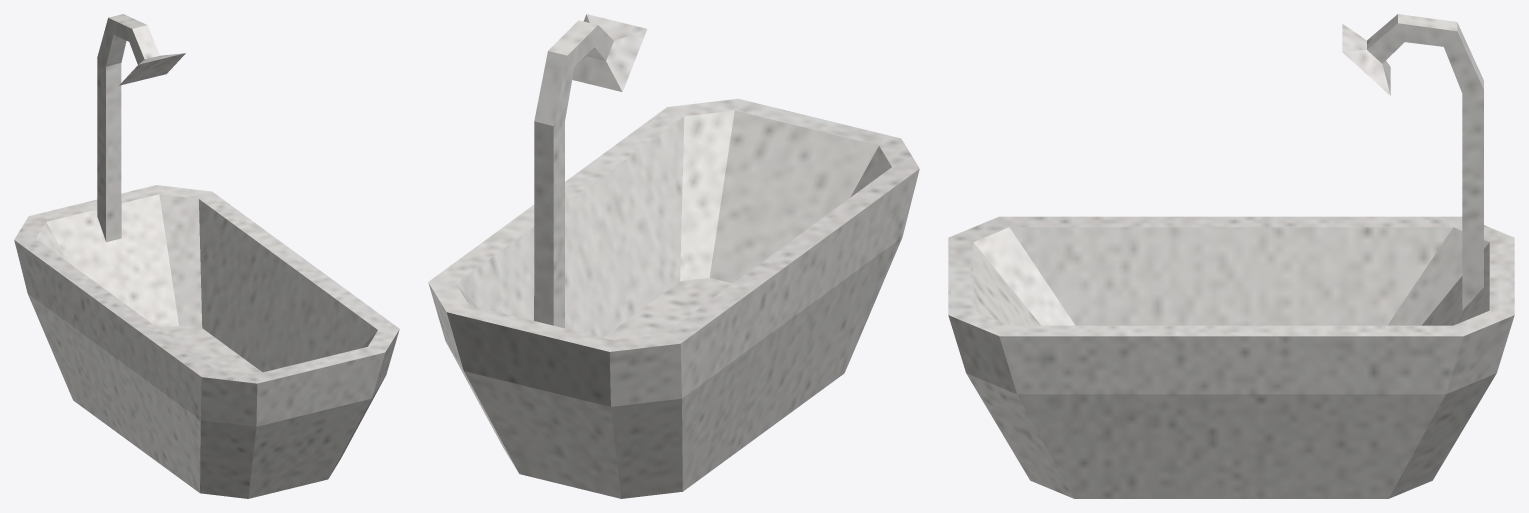
File: bath.fbx
The picture shows the model from 3 angles, left to right: view 1: azimuth 30°, elevation 25°; view 2: azimuth 150°, elevation 25°; view 3: azimuth 270°, elevation 25°; orthographic projection. The views are drawn at different scales.
Parts seen in each view (by area): view 1: Cube.011; view 2: Cube.011; view 3: Cube.011.
Part boxes in pixels (x1,y1,x2,y2): Cube.011: (14, 14, 399, 498); Cube.011: (428, 14, 919, 498); Cube.011: (948, 14, 1514, 498).
Size of the model in its own units: 244 by 415 by 487.
